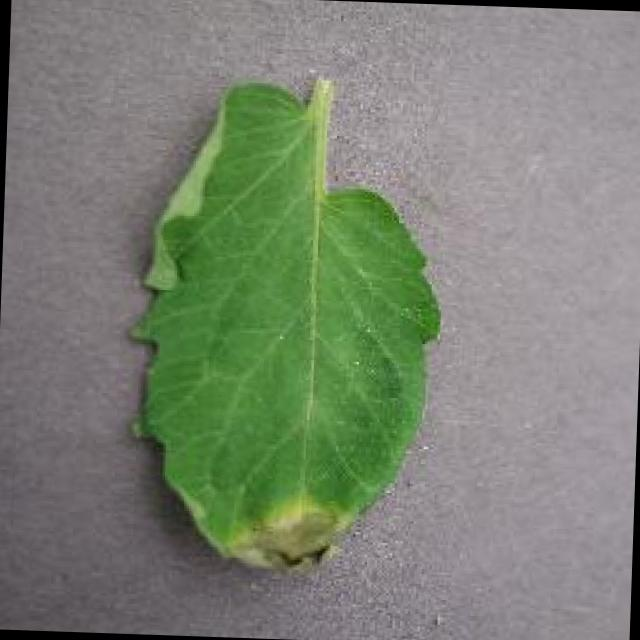Tomato_Late_Blight: (208, 477, 364, 579)
